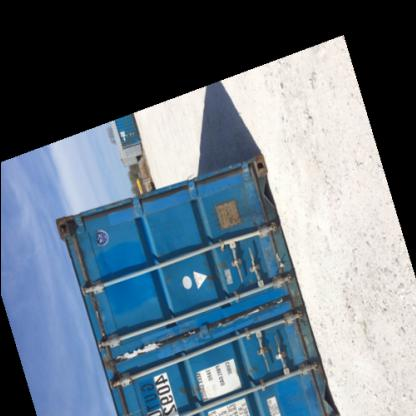Damage: (251, 221, 289, 282), (207, 302, 266, 330), (48, 212, 90, 247), (107, 342, 166, 360), (178, 324, 200, 346)
